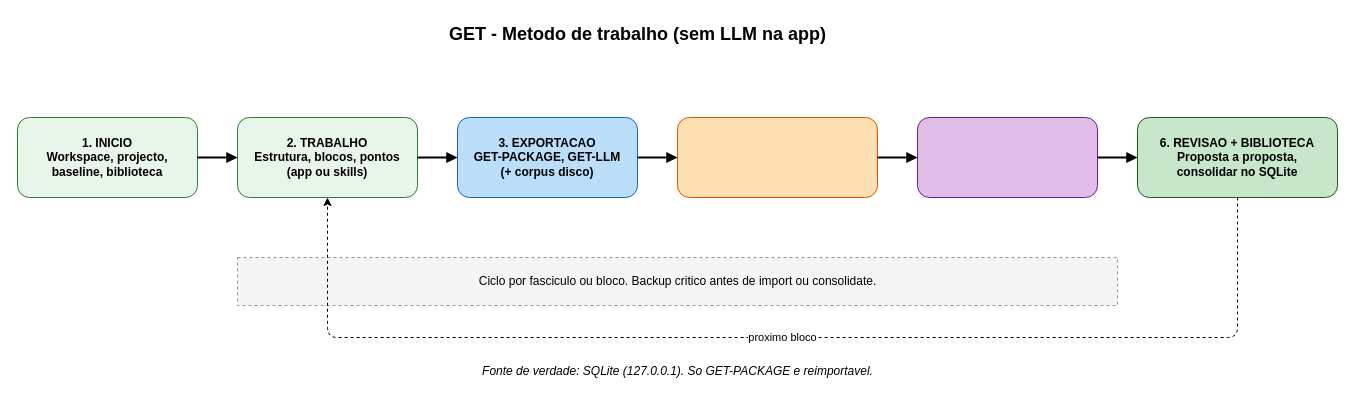
Some shapes in this 1355 by 398 pixel diagram are drawn without their labels. Each missing label, with the centre of its shape:
4. FORA DO GET LLM manual, skills Copilot / Claude: (777,157)
5. IMPORTACAO GET-PACKAGE devolvido staging, merge: (1007,157)
